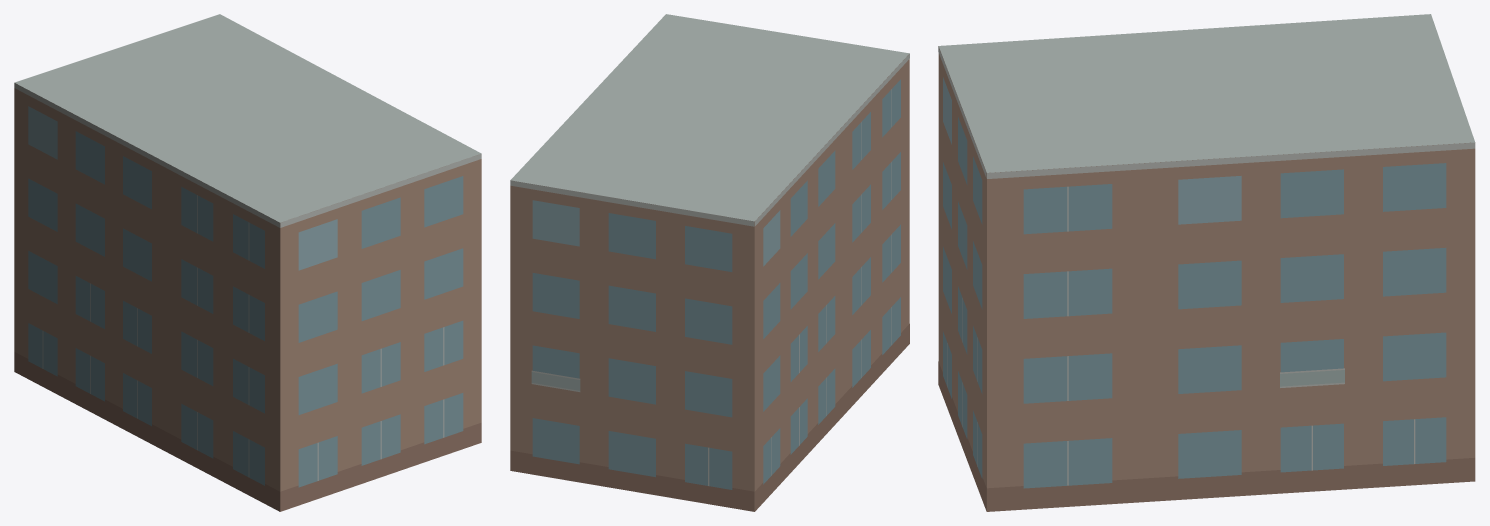
File: survey-upis-32717021.glb
3 views of the same model, side by side, from view 1: azimuth 30°, elevation 25°; view 2: azimuth 150°, elevation 25°; view 3: azimuth 270°, elevation 25° (orthographic). The views are drawn at different scales.
Visible parts, largest first — view 1: survey-upis-32717021.tmp; view 2: survey-upis-32717021.tmp; view 3: survey-upis-32717021.tmp.
Part boxes in pixels (box(x1,y1,x2,y2)): survey-upis-32717021.tmp: box(14, 14, 481, 511); survey-upis-32717021.tmp: box(510, 14, 909, 511); survey-upis-32717021.tmp: box(938, 14, 1475, 511).
Size of the model in its own units: 13.39 by 13.3 by 19.1.
